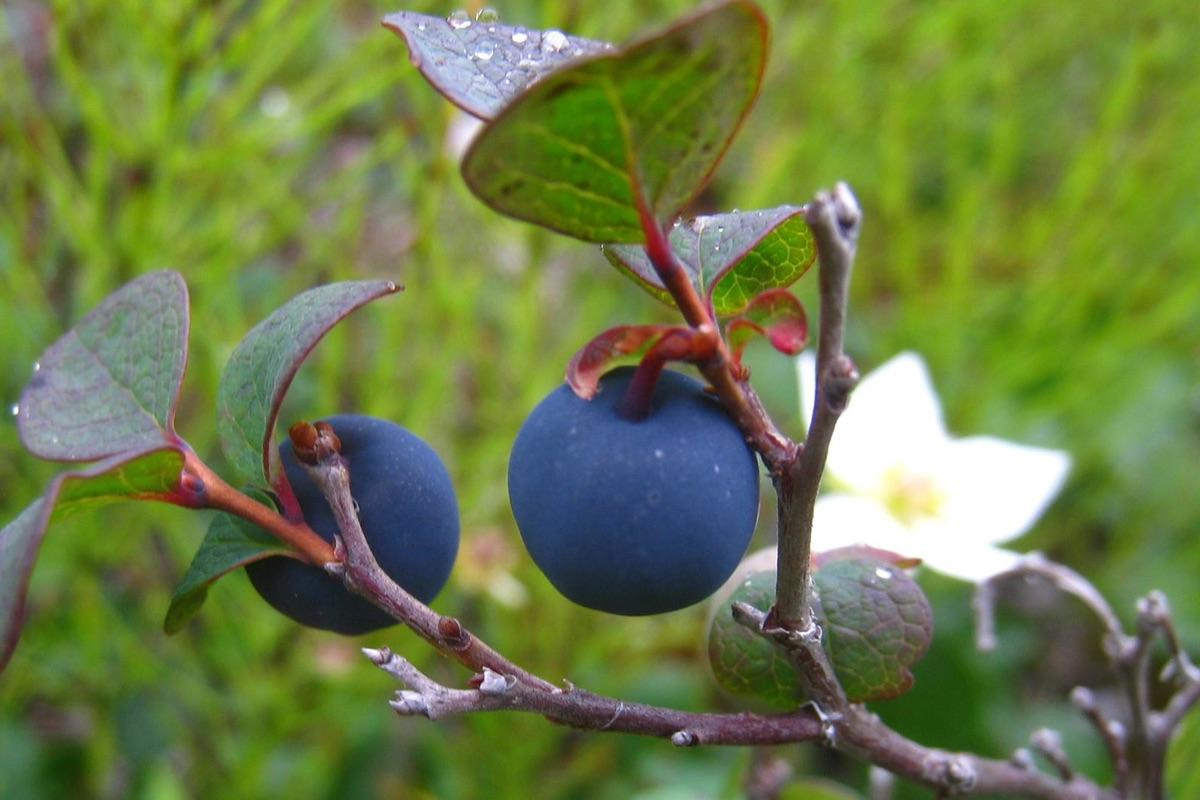Blueberry leaf: (366, 1, 774, 261), (206, 266, 405, 482), (17, 252, 203, 475)
